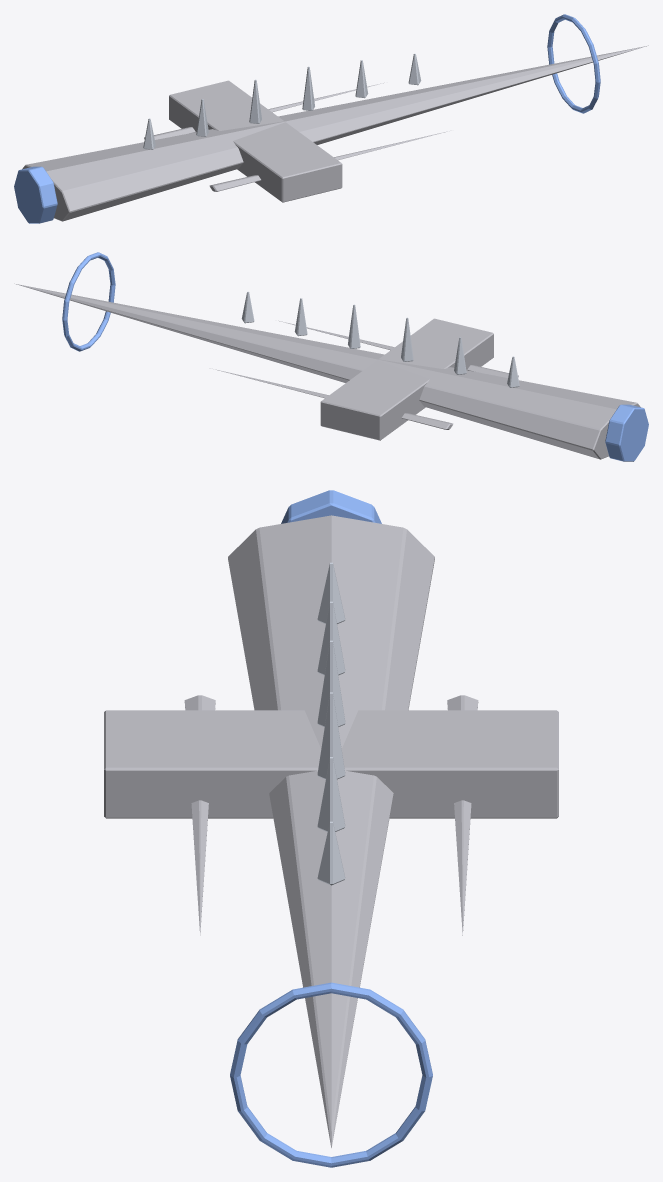
File: SM_TheLastSilence.fbx
The picture shows the model from 3 angles, top to bottom: view 1: azimuth 30°, elevation 25°; view 2: azimuth 150°, elevation 25°; view 3: azimuth 270°, elevation 25°; orthographic projection. The views are drawn at different scales.
Visible parts, largest first — view 1: SM_TheLastSilence; view 2: SM_TheLastSilence; view 3: SM_TheLastSilence.
Boxes of the visible parts, x1,y1,x2,y2 form: SM_TheLastSilence: (14, 14, 648, 223); SM_TheLastSilence: (14, 252, 648, 461); SM_TheLastSilence: (104, 490, 558, 1167).
Bounding box in the file's own units: 819 × 136 × 260.
